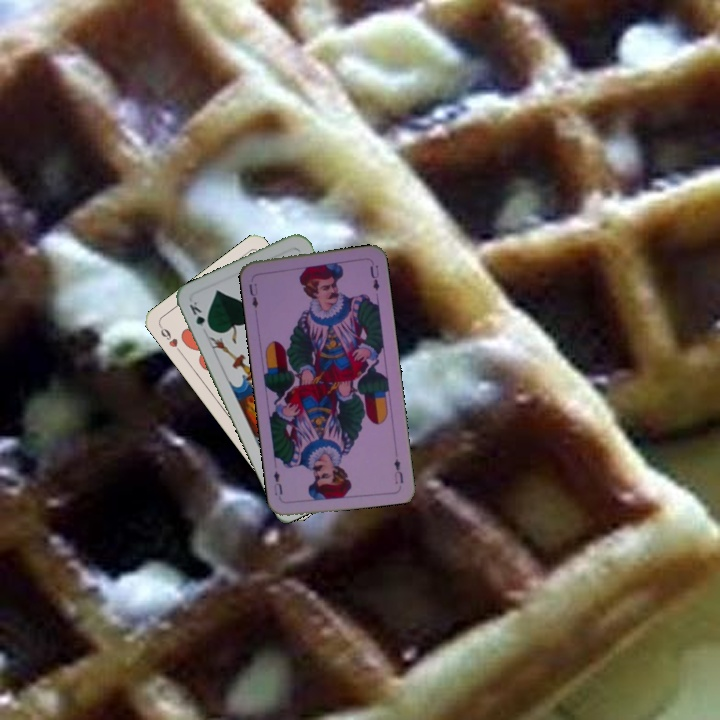EU: (245, 279, 261, 311), (390, 454, 406, 486)
GK: (185, 297, 214, 333)
H9: (155, 321, 184, 357)
